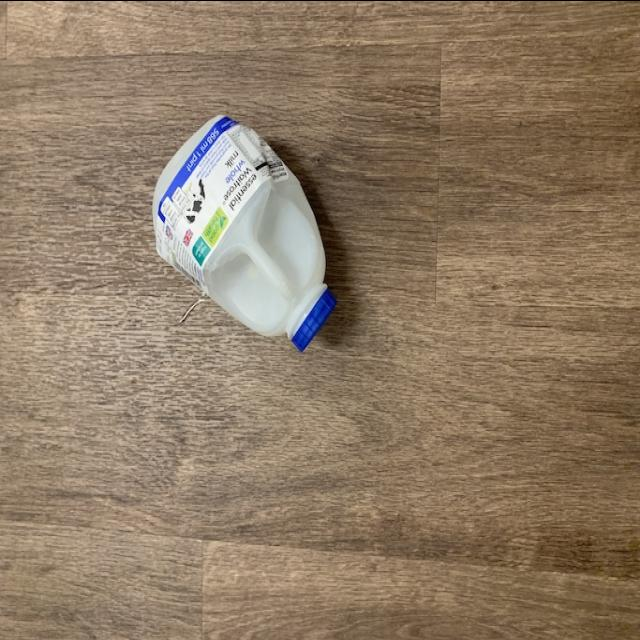litter: (152, 105, 350, 353)
